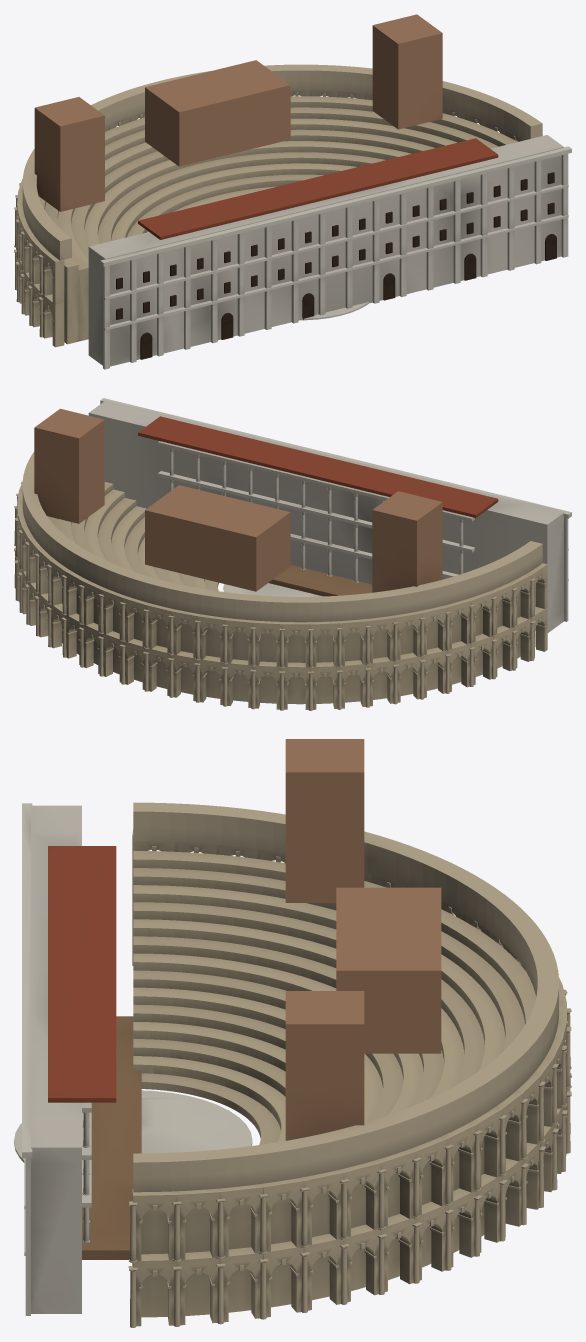
File: theatre-of-marcellus-fortress.glb
3 views of the same model, one above another, from view 1: azimuth 30°, elevation 25°; view 2: azimuth 150°, elevation 25°; view 3: azimuth 270°, elevation 25° (orthographic). The views are drawn at different scales.
Parts seen in each view (by area): view 1: p2_stage, p0_cavea, p1_facade; view 2: p2_stage, p1_facade, p0_cavea; view 3: p2_stage, p1_facade, p0_cavea.
Part boxes in pixels (x1=…): p2_stage: x1=34, y1=14, x2=571, y2=369; p0_cavea: x1=38, y1=96, x2=516, y2=344; p1_facade: x1=14, y1=64, x2=542, y2=347; p2_stage: x1=34, y1=398, x2=571, y2=632; p1_facade: x1=14, y1=451, x2=547, y2=710; p0_cavea: x1=47, y1=482, x2=535, y2=704; p2_stage: x1=22, y1=739, x2=441, y2=1315; p1_facade: x1=128, y1=802, x2=571, y2=1327; p0_cavea: x1=14, y1=851, x2=535, y2=1317.
Size of the model in its own units: 134 by 44 by 85.16.
